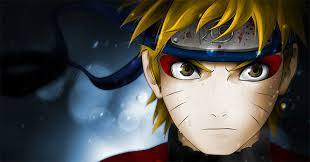Naruto: (146, 3, 295, 158)
